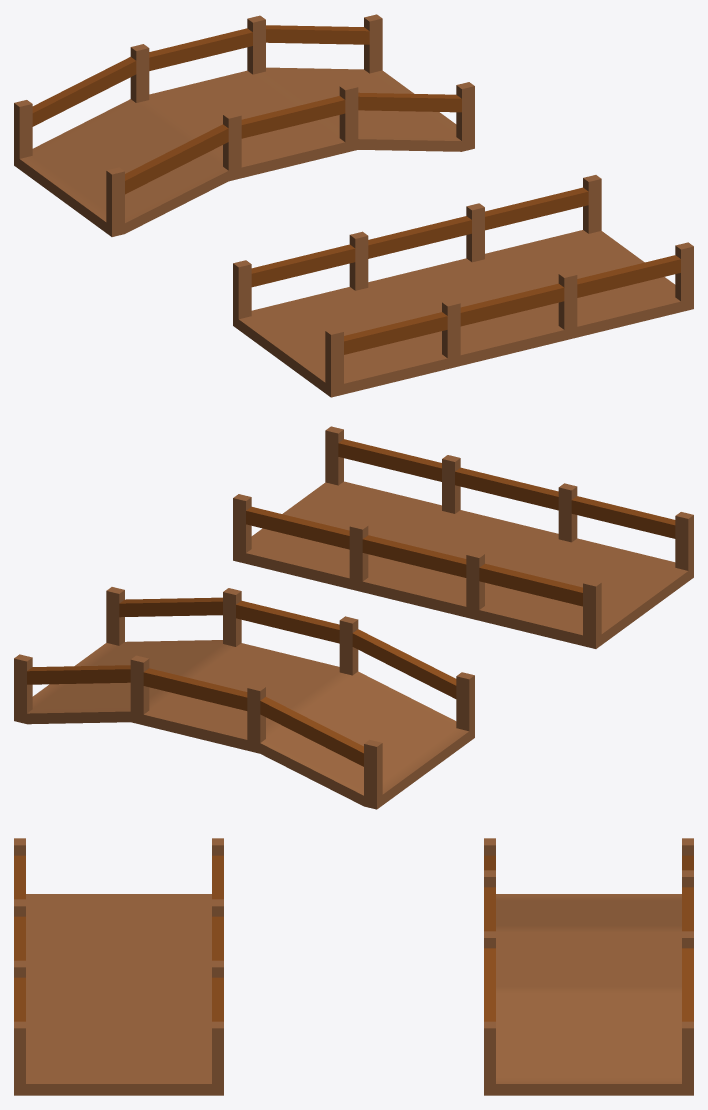
The model's file is Bridges.fbx.
3 renders of one model, top to bottom at view 1: azimuth 30°, elevation 25°; view 2: azimuth 150°, elevation 25°; view 3: azimuth 270°, elevation 25°, orthographic. The views are drawn at different scales.
Parts seen in each view (by area): view 1: pCube263, pCube266; view 2: pCube263, pCube266; view 3: pCube263, pCube266.
Part boxes in pixels (x1,y1,x2,y2): pCube263: [14, 14, 474, 236]; pCube266: [233, 175, 693, 397]; pCube263: [14, 587, 474, 809]; pCube266: [233, 426, 693, 648]; pCube263: [484, 838, 693, 1095]; pCube266: [14, 838, 223, 1095].
Size of the model in its own units: 2.87 by 0.6796 by 4.34.
